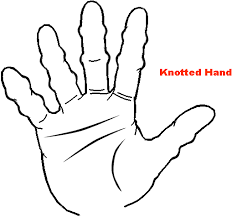palm: (43, 101, 152, 199)
